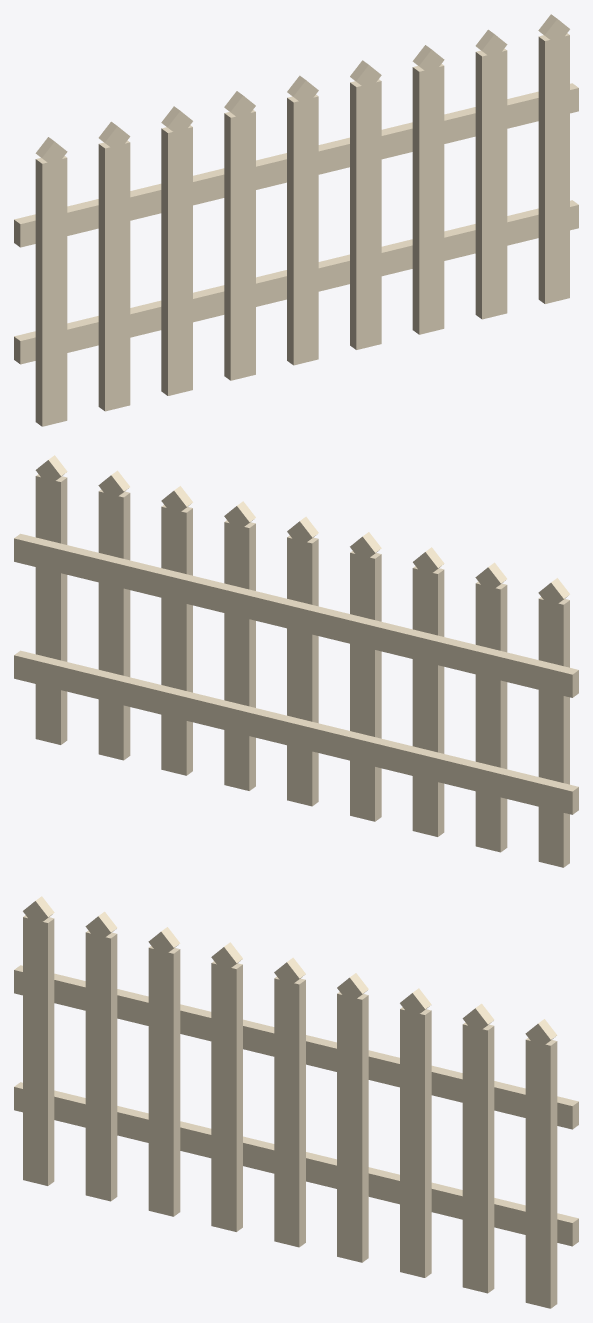
Rendered from fence_section.glb.
The picture shows the model from 3 angles, top to bottom: view 1: azimuth 30°, elevation 25°; view 2: azimuth 150°, elevation 25°; view 3: azimuth 330°, elevation 25°; orthographic projection.
Visible parts, largest first — view 1: fence_section; view 2: fence_section; view 3: fence_section.
Boxes of the visible parts, x1,y1,x2,y2 form: fence_section: [14, 14, 578, 426]; fence_section: [14, 455, 578, 867]; fence_section: [14, 896, 578, 1308].
Size of the model in its own units: 2 by 0.966 by 0.08.
